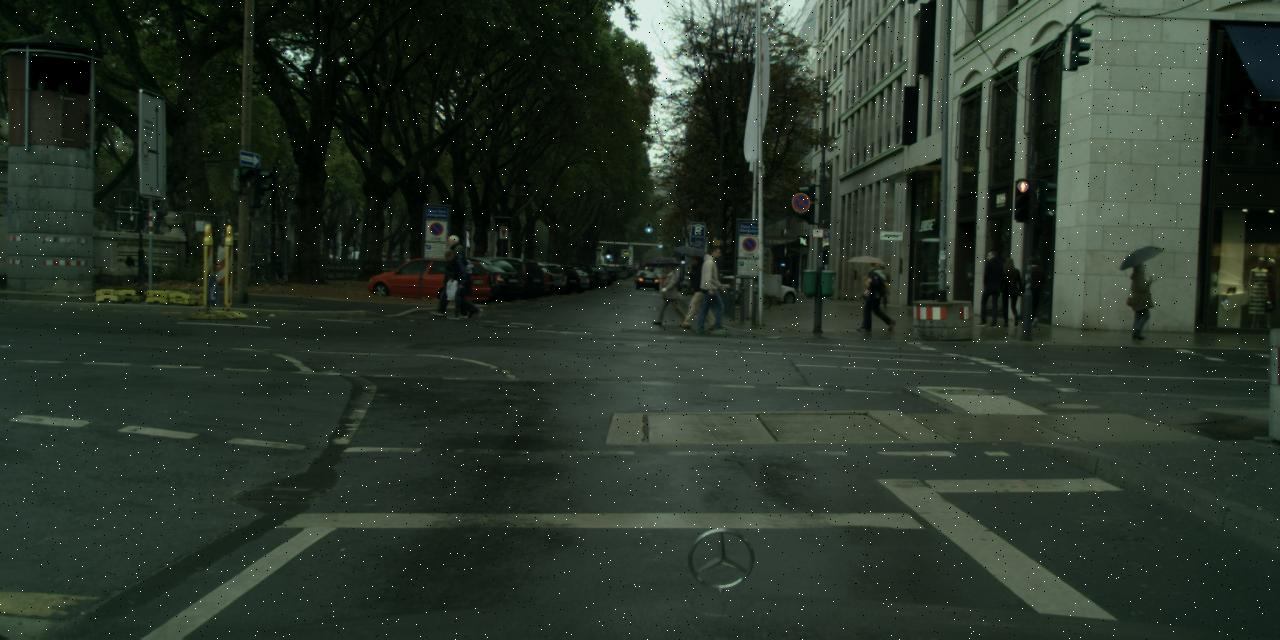ped: (430, 235, 484, 322), (1122, 246, 1160, 340), (672, 246, 707, 330), (696, 248, 730, 330), (974, 251, 1005, 326), (860, 256, 890, 331), (1018, 256, 1046, 326), (996, 258, 1024, 326), (657, 257, 684, 325), (872, 263, 890, 308), (781, 270, 792, 296), (706, 308, 715, 330)
